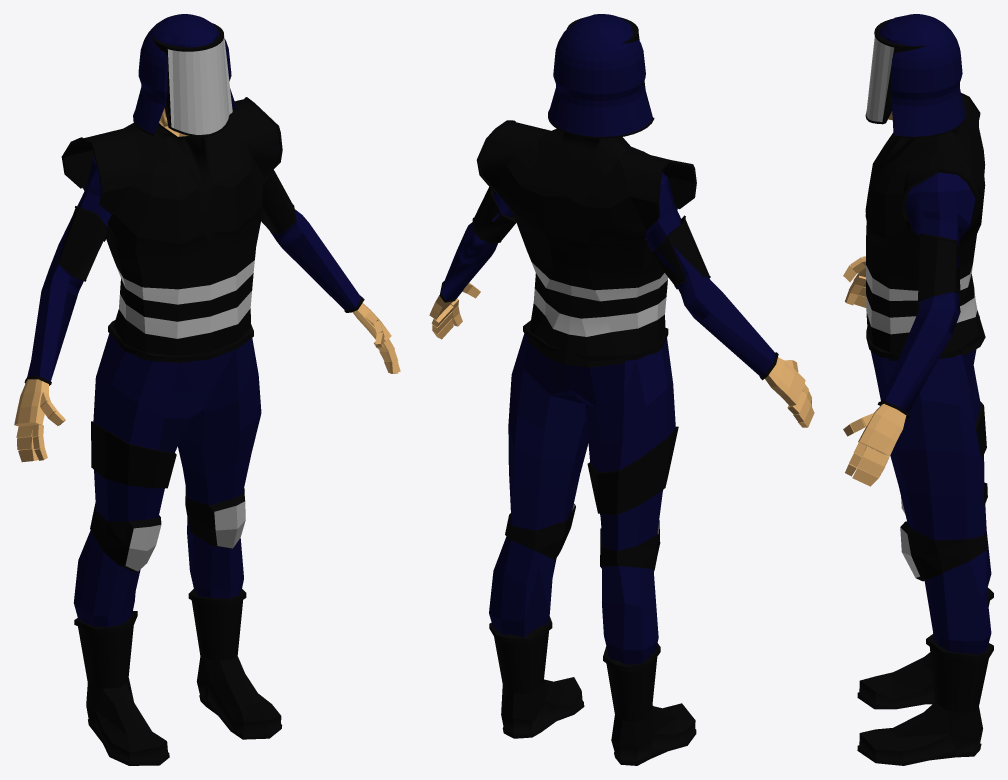
File: CRS_New.fbx
3 views of the same model, side by side, from view 1: azimuth 30°, elevation 25°; view 2: azimuth 150°, elevation 25°; view 3: azimuth 270°, elevation 25° (orthographic).
Visible parts, largest first — view 1: Jacket, Pants, Shoes, Reduced Body, Helmet, Shoulder, Knee Caps, Upper Arms, Upper Thigh; view 2: Pants, Jacket, Shoes, Reduced Body, Helmet, Shoulder, Upper Thigh, Upper Arms, Knee Caps; view 3: Pants, Jacket, Reduced Body, Shoes, Helmet, Knee Caps, Upper Arms, Shoulder, Upper Thigh.
Boxes of the visible parts, x1,y1,x2,y2 form: Jacket: (82,122,263,360); Pants: (73,320,261,627); Shoes: (74,589,282,765); Reduced Body: (14,108,400,462); Helmet: (133,14,239,136); Shoulder: (61,97,282,214); Knee Caps: (90,487,245,571); Upper Arms: (57,169,296,281); Upper Thigh: (91,421,176,488); Pants: (489,320,675,664); Jacket: (497,128,677,367); Shoes: (489,616,696,765); Reduced Body: (429,172,814,427); Helmet: (548,14,654,138); Shoulder: (476,120,696,230); Upper Thigh: (587,426,678,515); Upper Arms: (472,187,710,289); Knee Caps: (505,504,660,571); Pants: (866,315,991,654); Jacket: (865,114,985,361); Reduced Body: (843,111,975,486); Shoes: (857,587,993,765); Helmet: (865,14,966,138); Knee Caps: (900,482,987,581); Upper Arms: (917,233,961,302); Shoulder: (901,93,980,228); Upper Thigh: (975,401,986,459).
Size of the model in its own units: 284 by 521 by 100.
